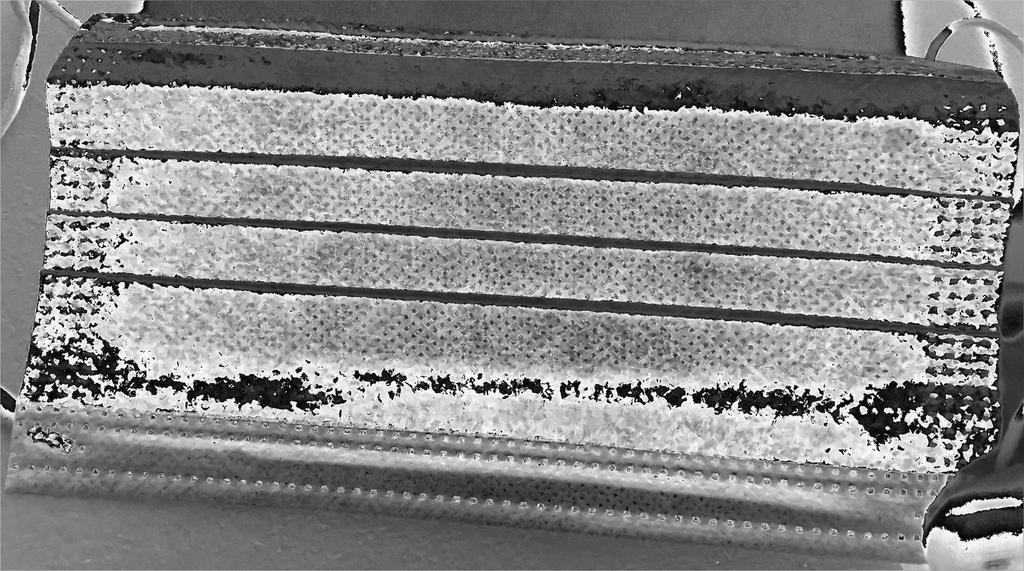High GSM: (14, 83, 1020, 489)
